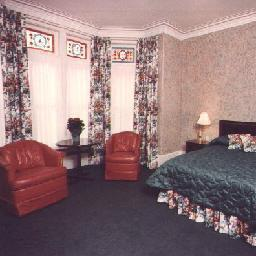Cama: (160, 123, 252, 233)
